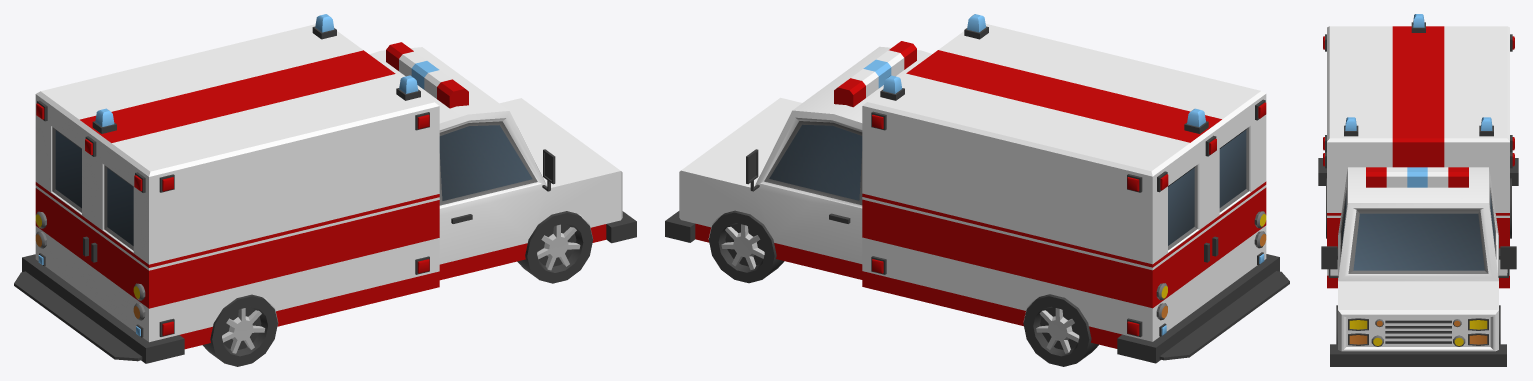
Rendered from Ambulance.fbx.
3 renders of one model, left to right at view 1: azimuth 30°, elevation 25°; view 2: azimuth 150°, elevation 25°; view 3: azimuth 270°, elevation 25°, orthographic. The views are drawn at different scales.
Visible parts, largest first — view 1: Ambulance; view 2: Ambulance; view 3: Ambulance.
Boxes of the visible parts, <box> form: Ambulance: <box>14,14,636,366</box>; Ambulance: <box>665,14,1289,366</box>; Ambulance: <box>1318,14,1518,366</box>.
Size of the model in its own units: 565 by 242 by 233.
2 materials, 2 textured.
